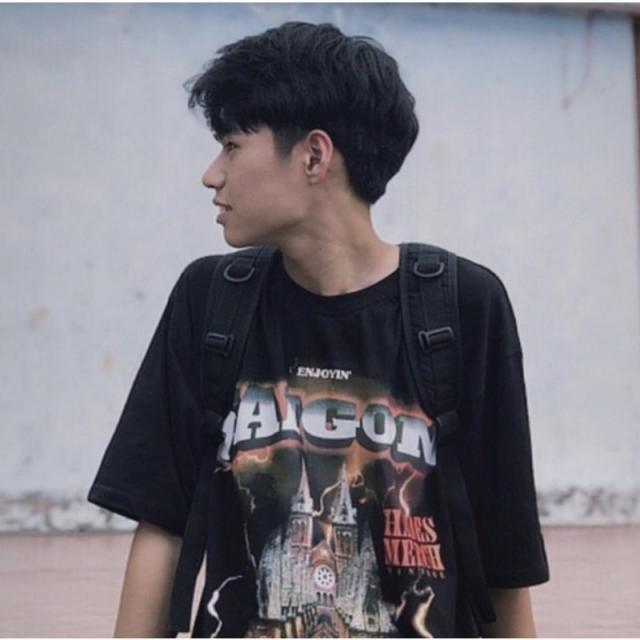Shirt: (82, 240, 576, 639)
